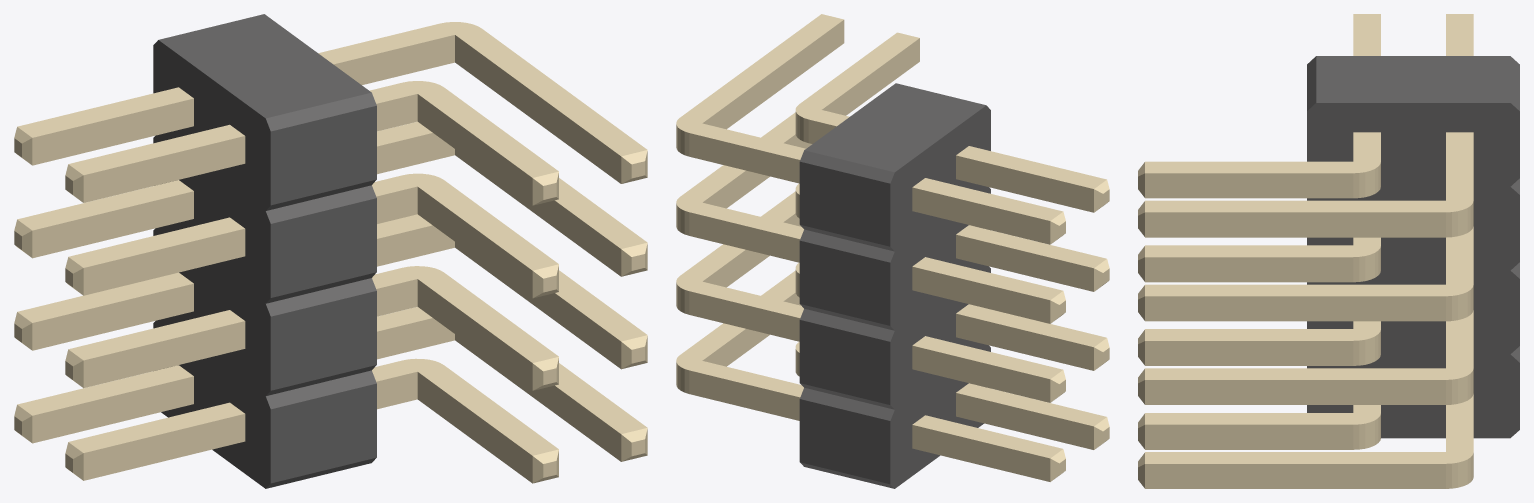
The model's file is PinHeader_2x04_P1.00mm_Horizontal.glb.
3 views of the same model, side by side, from view 1: azimuth 30°, elevation 25°; view 2: azimuth 150°, elevation 25°; view 3: azimuth 270°, elevation 25° (orthographic). The views are drawn at different scales.
Visible parts, largest first — view 1: Shape_IndexedFaceSet.004, Shape_IndexedFaceSet.001, Shape_IndexedFaceSet.022, Shape_IndexedFaceSet.010, Shape_IndexedFaceSet.016, Shape_IndexedFaceSet.002, Shape_IndexedFaceSet.057, Shape_IndexedFaceSet.130, Shape_IndexedFaceSet.085, Shape_IndexedFaceSet.065, Shape_IndexedFaceSet.076, Shape_IndexedFaceSet.074 (+38 smaller); view 2: Shape_IndexedFaceSet.004, Shape_IndexedFaceSet.001, Shape_IndexedFaceSet.013, Shape_IndexedFaceSet.019, Shape_IndexedFaceSet.025, Shape_IndexedFaceSet.007, Shape_IndexedFaceSet.057, Shape_IndexedFaceSet.088, Shape_IndexedFaceSet.063, Shape_IndexedFaceSet.070, Shape_IndexedFaceSet.080, Shape_IndexedFaceSet.087 (+28 smaller); view 3: Shape_IndexedFaceSet.003, Shape_IndexedFaceSet.001, Shape_IndexedFaceSet.118, Shape_IndexedFaceSet.128, Shape_IndexedFaceSet.093, Shape_IndexedFaceSet.104, Shape_IndexedFaceSet.057, Shape_IndexedFaceSet.049, Shape_IndexedFaceSet.098, Shape_IndexedFaceSet.108, Shape_IndexedFaceSet.123, Shape_IndexedFaceSet.028 (+18 smaller).
Boxes of the visible parts, left/top/right/bottom form: Shape_IndexedFaceSet.004: left=153, top=40, right=270, bottom=488; Shape_IndexedFaceSet.001: left=159, top=14, right=371, bottom=118; Shape_IndexedFaceSet.022: left=270, top=383, right=376, bottom=483; Shape_IndexedFaceSet.010: left=270, top=198, right=376, bottom=297; Shape_IndexedFaceSet.016: left=270, top=291, right=376, bottom=390; Shape_IndexedFaceSet.002: left=270, top=105, right=376, bottom=205; Shape_IndexedFaceSet.057: left=318, top=22, right=647, bottom=156; Shape_IndexedFaceSet.130: left=455, top=35, right=621, bottom=183; Shape_IndexedFaceSet.085: left=83, top=136, right=245, bottom=202; Shape_IndexedFaceSet.065: left=83, top=414, right=245, bottom=480; Shape_IndexedFaceSet.076: left=83, top=321, right=245, bottom=387; Shape_IndexedFaceSet.074: left=83, top=228, right=245, bottom=295; Shape_IndexedFaceSet.004: left=890, top=105, right=990, bottom=488; Shape_IndexedFaceSet.001: left=804, top=83, right=985, bottom=172; Shape_IndexedFaceSet.013: left=799, top=240, right=890, bottom=325; Shape_IndexedFaceSet.019: left=799, top=320, right=890, bottom=404; Shape_IndexedFaceSet.025: left=799, top=399, right=890, bottom=484; Shape_IndexedFaceSet.007: left=799, top=161, right=890, bottom=246; Shape_IndexedFaceSet.057: left=676, top=14, right=843, bottom=159; Shape_IndexedFaceSet.088: left=912, top=187, right=1050, bottom=244; Shape_IndexedFaceSet.063: left=912, top=425, right=1050, bottom=481; Shape_IndexedFaceSet.070: left=912, top=345, right=1050, bottom=402; Shape_IndexedFaceSet.080: left=912, top=266, right=1050, bottom=323; Shape_IndexedFaceSet.087: left=956, top=155, right=1093, bottom=212; Shape_IndexedFaceSet.003: left=1307, top=103, right=1519, bottom=438; Shape_IndexedFaceSet.001: left=1316, top=56, right=1510, bottom=102; Shape_IndexedFaceSet.118: left=1145, top=296, right=1445, bottom=321; Shape_IndexedFaceSet.128: left=1145, top=212, right=1445, bottom=237; Shape_IndexedFaceSet.093: left=1145, top=464, right=1445, bottom=488; Shape_IndexedFaceSet.104: left=1145, top=380, right=1445, bottom=404; Shape_IndexedFaceSet.057: left=1145, top=132, right=1473, bottom=212; Shape_IndexedFaceSet.049: left=1145, top=226, right=1473, bottom=296; Shape_IndexedFaceSet.098: left=1145, top=424, right=1353, bottom=449; Shape_IndexedFaceSet.108: left=1145, top=257, right=1353, bottom=282; Shape_IndexedFaceSet.123: left=1145, top=173, right=1353, bottom=198; Shape_IndexedFaceSet.028: left=1145, top=394, right=1473, bottom=463.
Size of the model in its own units: 2.03 by 1.58 by 1.62.
